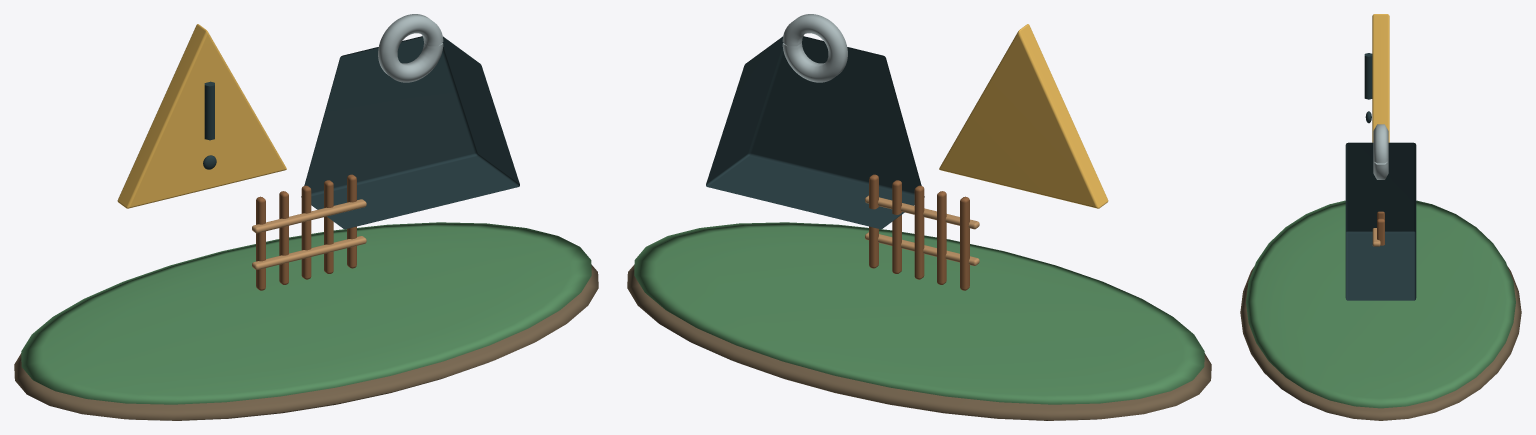
File: complete-second-strict-heavy.glb
The picture shows the model from 3 angles, left to right: view 1: azimuth 30°, elevation 25°; view 2: azimuth 150°, elevation 25°; view 3: azimuth 270°, elevation 25°; orthographic projection. The views are drawn at different scales.
Visible parts, largest first — view 1: complete-second-strict-heavy_surface_01, complete-second-strict-heavy_surface_03, complete-second-strict-heavy_surface_02, complete-second-strict-heavy_surface_00, complete-second-strict-heavy_surface_05, complete-second-strict-heavy_surface_04, complete-second-strict-heavy_surface_06; view 2: complete-second-strict-heavy_surface_01, complete-second-strict-heavy_surface_03, complete-second-strict-heavy_surface_02, complete-second-strict-heavy_surface_00, complete-second-strict-heavy_surface_05, complete-second-strict-heavy_surface_04, complete-second-strict-heavy_surface_06; view 3: complete-second-strict-heavy_surface_01, complete-second-strict-heavy_surface_03, complete-second-strict-heavy_surface_00, complete-second-strict-heavy_surface_02, complete-second-strict-heavy_surface_04.
Boxes of the visible parts, x1,y1,x2,y2 form: complete-second-strict-heavy_surface_01: (21,222,591,404); complete-second-strict-heavy_surface_03: (203,36,519,229); complete-second-strict-heavy_surface_02: (117,24,286,208); complete-second-strict-heavy_surface_00: (14,264,598,420); complete-second-strict-heavy_surface_05: (256,174,356,290); complete-second-strict-heavy_surface_04: (378,14,443,82); complete-second-strict-heavy_surface_06: (252,199,366,269); complete-second-strict-heavy_surface_01: (634,222,1204,404); complete-second-strict-heavy_surface_03: (706,36,924,229); complete-second-strict-heavy_surface_02: (939,24,1108,208); complete-second-strict-heavy_surface_00: (627,264,1211,420); complete-second-strict-heavy_surface_05: (869,174,969,290); complete-second-strict-heavy_surface_04: (782,14,847,82); complete-second-strict-heavy_surface_06: (865,195,979,265); complete-second-strict-heavy_surface_01: (1246,200,1515,408); complete-second-strict-heavy_surface_03: (1345,53,1416,300); complete-second-strict-heavy_surface_00: (1240,266,1521,420); complete-second-strict-heavy_surface_02: (1372,14,1389,142); complete-second-strict-heavy_surface_04: (1373,124,1388,179).
Size of the model in its own units: 4.56 by 2.66 by 2.5.
